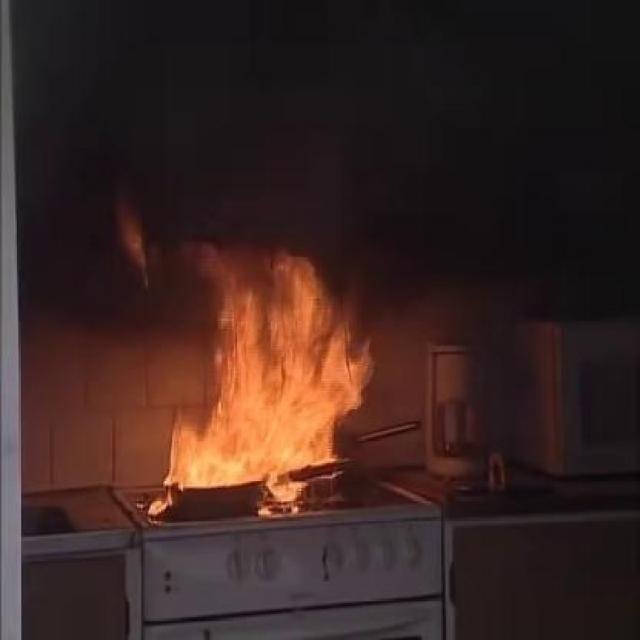fire: (164, 249, 382, 474)
